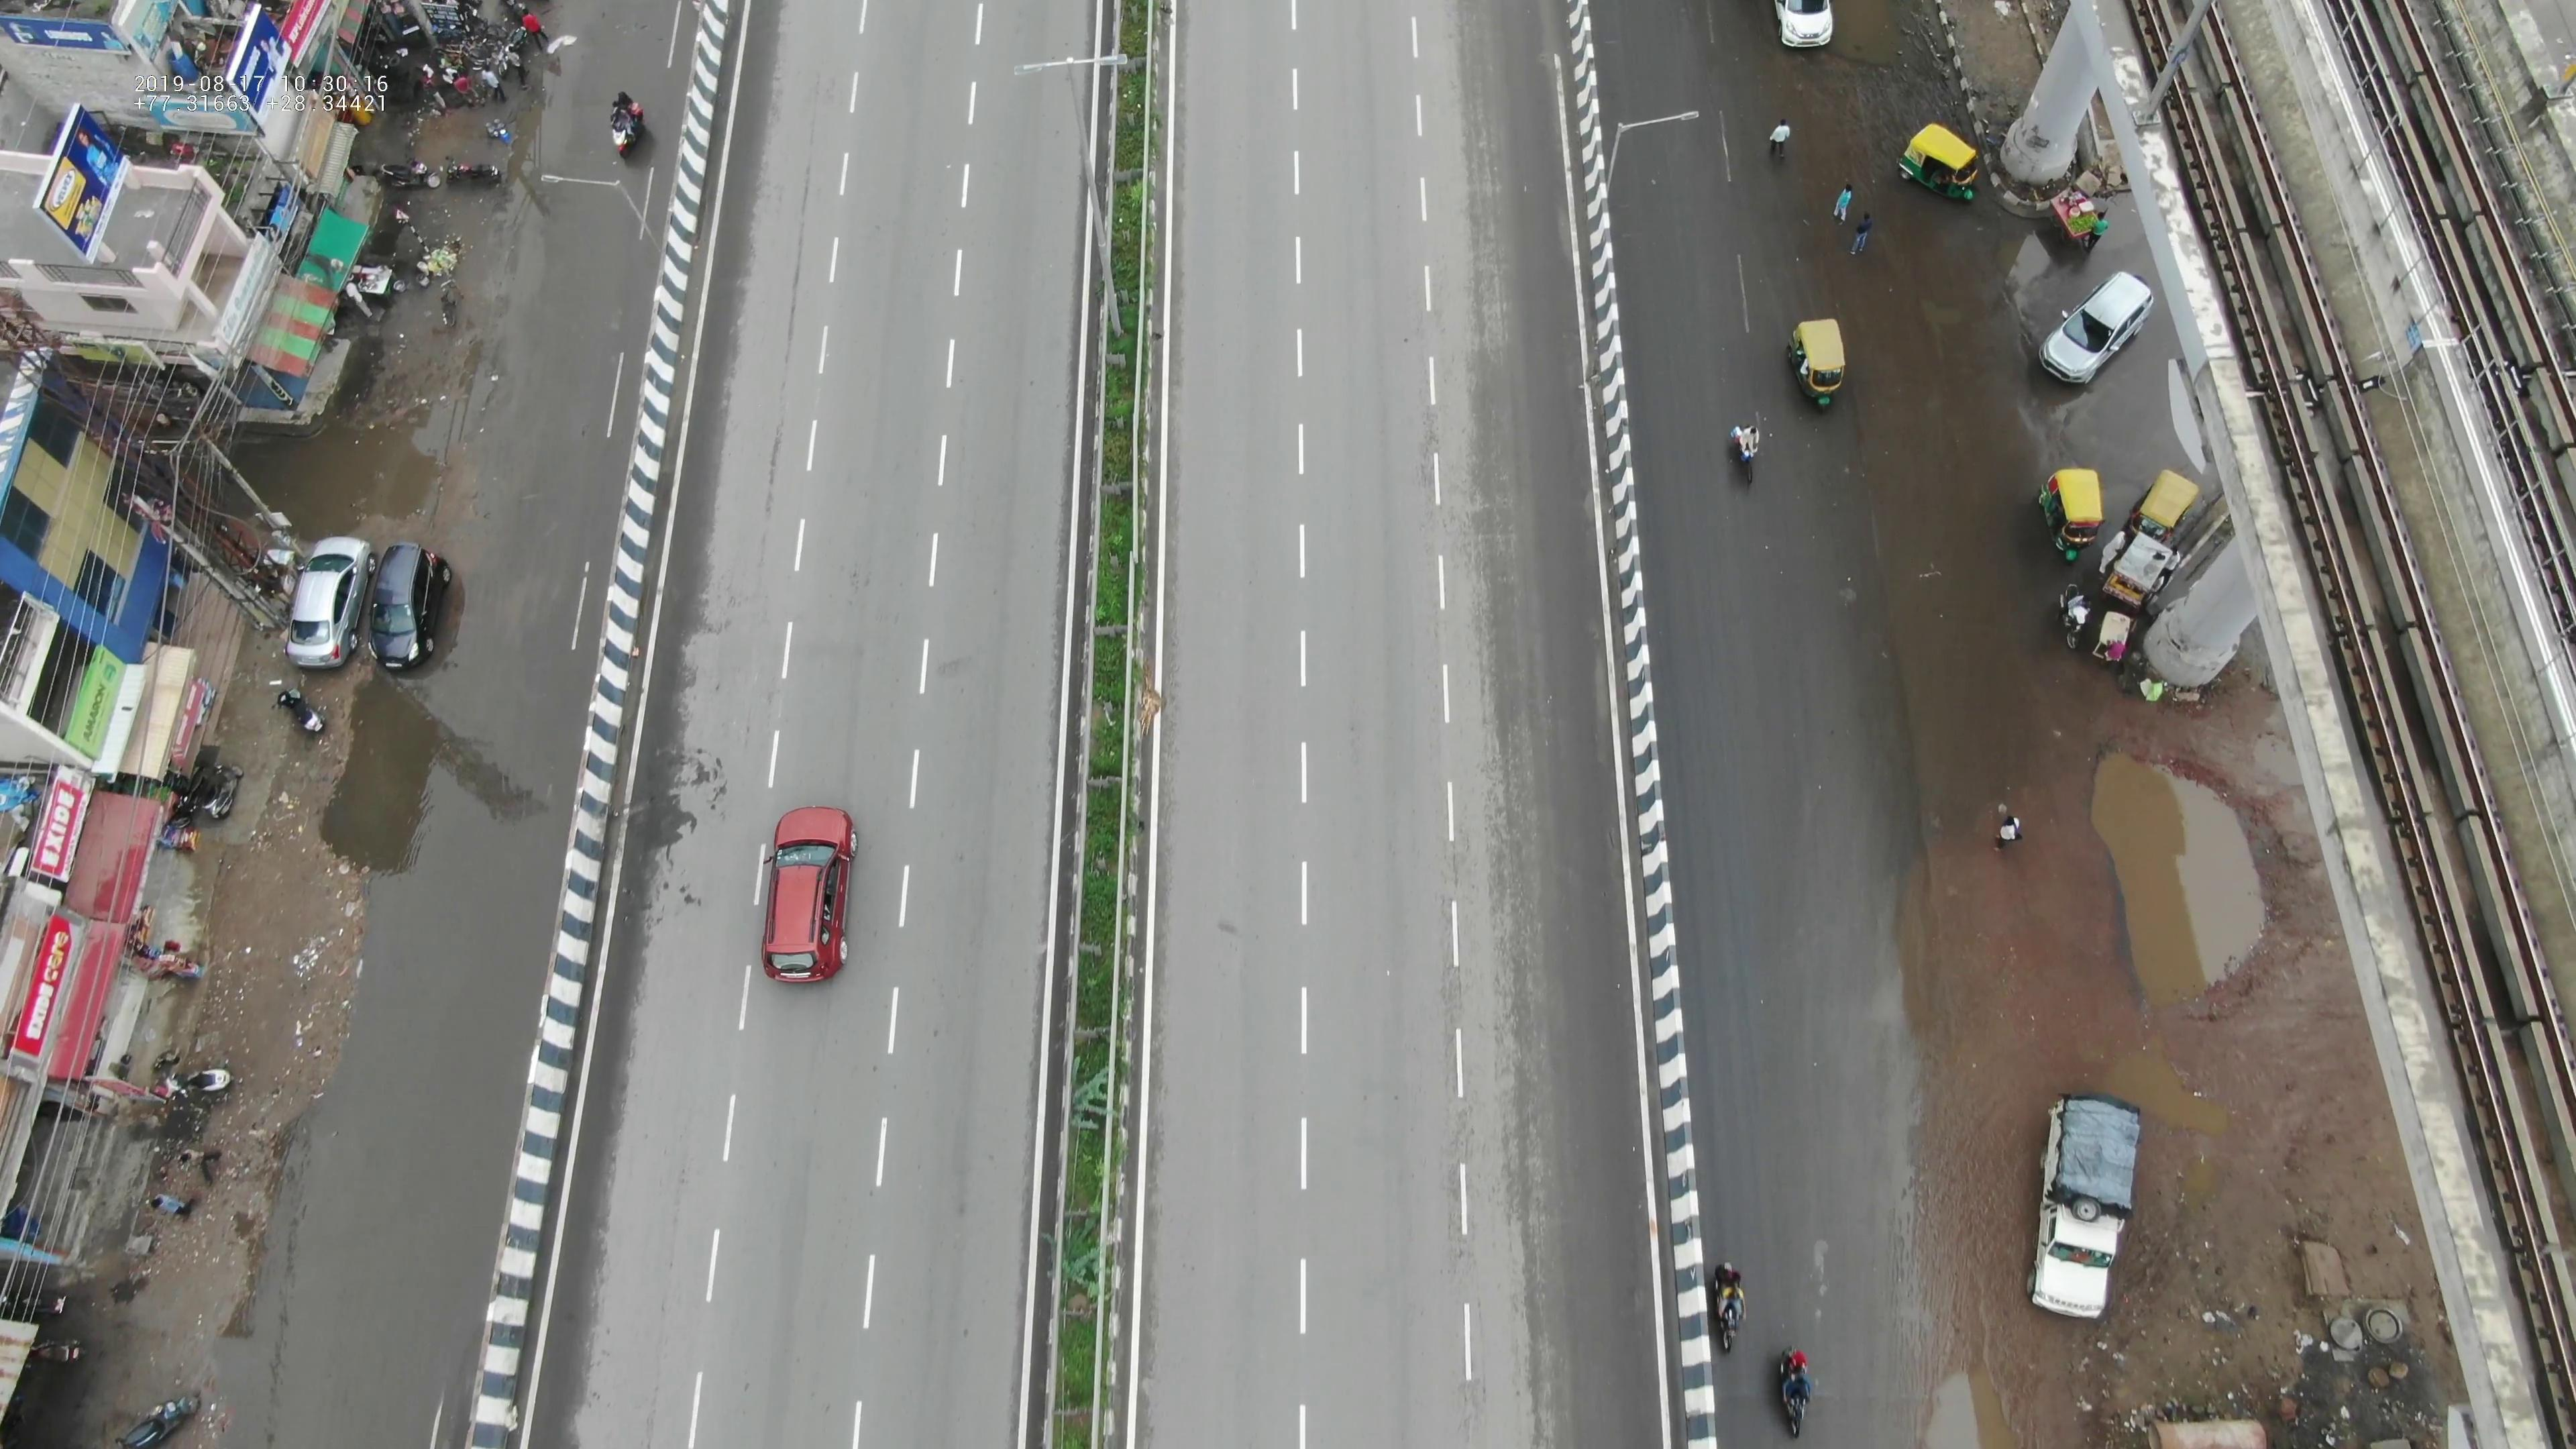Waterlogging: (343, 389, 612, 913), (239, 961, 533, 1401), (2068, 709, 2281, 1030)
